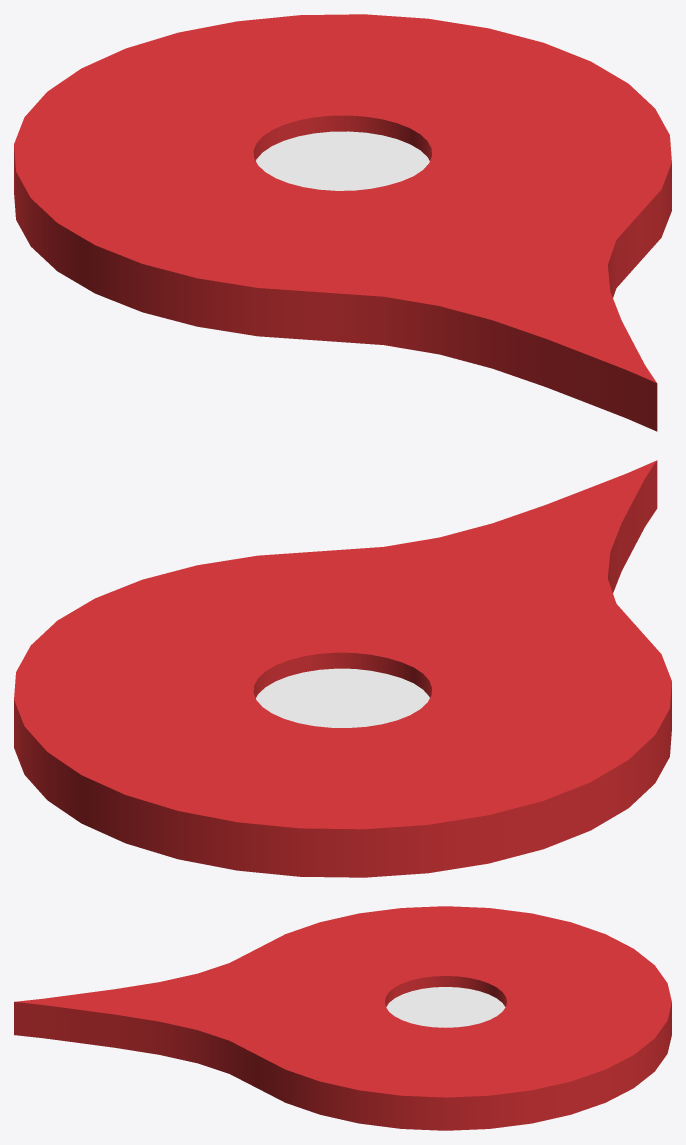
The model's file is Icon_Pin.glb.
3 views of the same model, one above another, from view 1: azimuth 30°, elevation 25°; view 2: azimuth 150°, elevation 25°; view 3: azimuth 270°, elevation 25° (orthographic). The views are drawn at different scales.
Parts seen in each view (by area): view 1: places_of_interest_0; view 2: places_of_interest_0; view 3: places_of_interest_0.
Boxes of the visible parts, left/top/right/bottom form: places_of_interest_0: left=14, top=14, right=671, bottom=431; places_of_interest_0: left=14, top=460, right=671, bottom=877; places_of_interest_0: left=14, top=906, right=671, bottom=1130.
Size of the model in its own units: 0.9226 by 0.0747 by 1.34.
